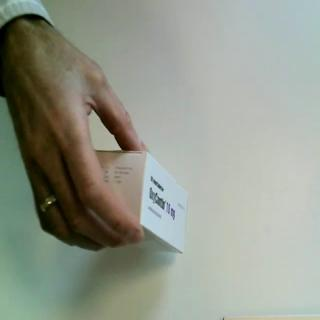oxynorm10mg: (91, 148, 189, 256)
